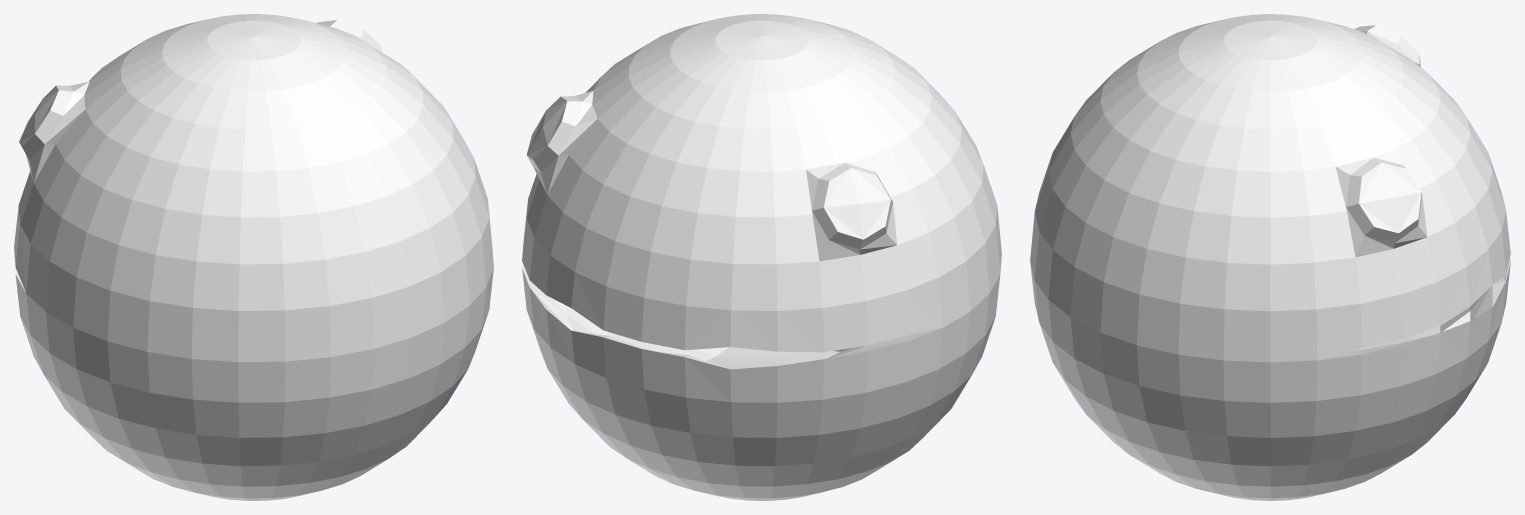
Rendered from pacman_1.obj.
3 renders of one model, left to right at view 1: azimuth 30°, elevation 25°; view 2: azimuth 150°, elevation 25°; view 3: azimuth 270°, elevation 25°, orthographic.
Visible parts, largest first — view 1: Sphere_Sphere.001; view 2: Sphere_Sphere.001; view 3: Sphere_Sphere.001.
Part boxes in pixels (left/top/right/bottom): Sphere_Sphere.001: left=14, top=14, right=493, bottom=500; Sphere_Sphere.001: left=522, top=14, right=1001, bottom=500; Sphere_Sphere.001: left=1030, top=14, right=1510, bottom=500.
Size of the model in its own units: 2 by 2.03 by 2.
